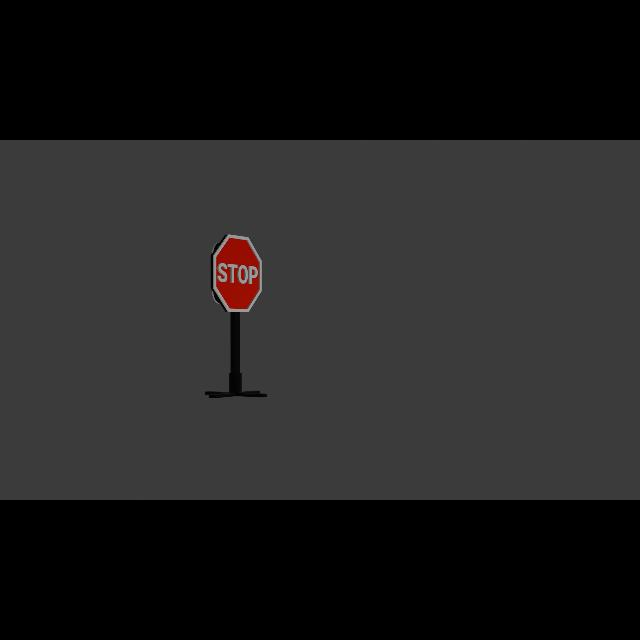sign_stop: (213, 236, 266, 313)
